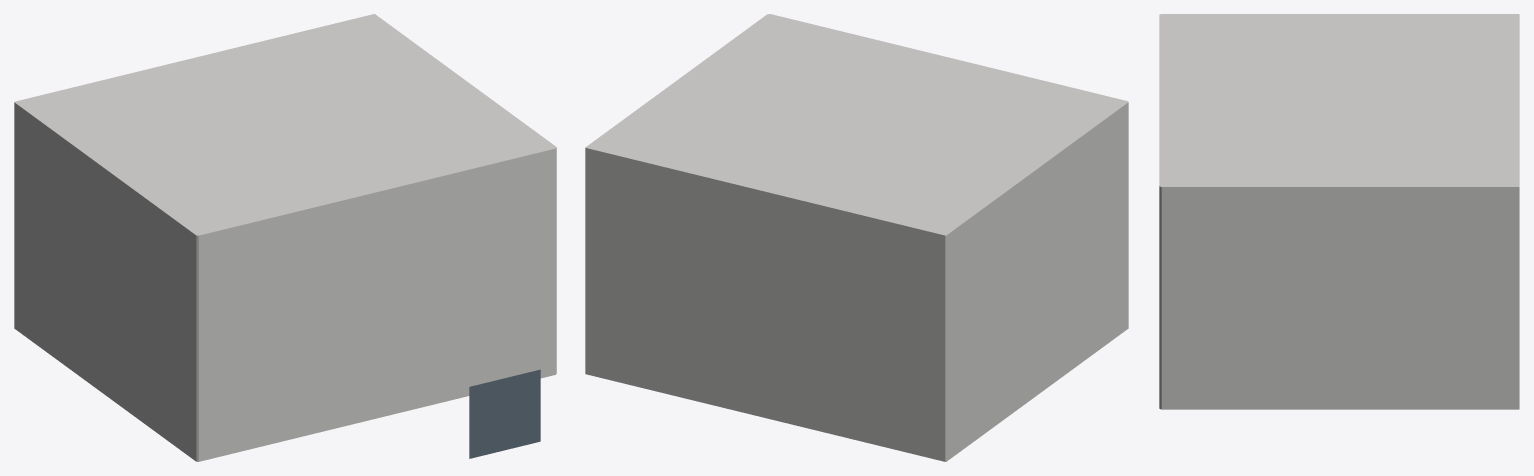
Rendered from loin-etape-1.glb.
3 views of the same model, side by side, from view 1: azimuth 30°, elevation 25°; view 2: azimuth 150°, elevation 25°; view 3: azimuth 270°, elevation 25° (orthographic).
Parts seen in each view (by area): view 1: loin; view 2: loin; view 3: loin.
Boxes of the visible parts, x1=… form: loin: x1=14, y1=14, x2=556, y2=461; loin: x1=585, y1=14, x2=1128, y2=461; loin: x1=1159, y1=14, x2=1519, y2=409.
Bounding box in the file's own units: 0.7676 × 0.5863 × 0.679.
